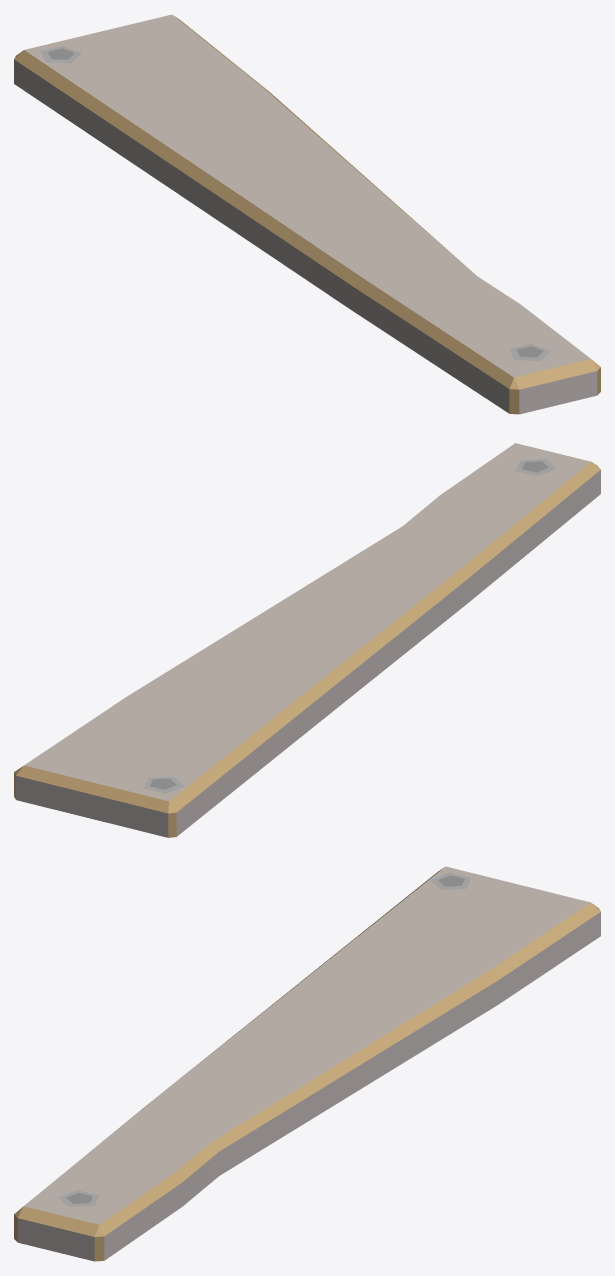
Rendered from WoodBoardC.glb.
The picture shows the model from 3 angles, top to bottom: view 1: azimuth 30°, elevation 25°; view 2: azimuth 150°, elevation 25°; view 3: azimuth 330°, elevation 25°; orthographic projection.
Visible parts, largest first — view 1: WoodBoardC; view 2: WoodBoardC; view 3: WoodBoardC.
Boxes of the visible parts, x1,y1,x2,y2 form: WoodBoardC: (14,14,600,414); WoodBoardC: (14,443,600,837); WoodBoardC: (14,866,600,1261).
Bounding box in the file's own units: 0.7585 × 0.1497 × 3.73.
